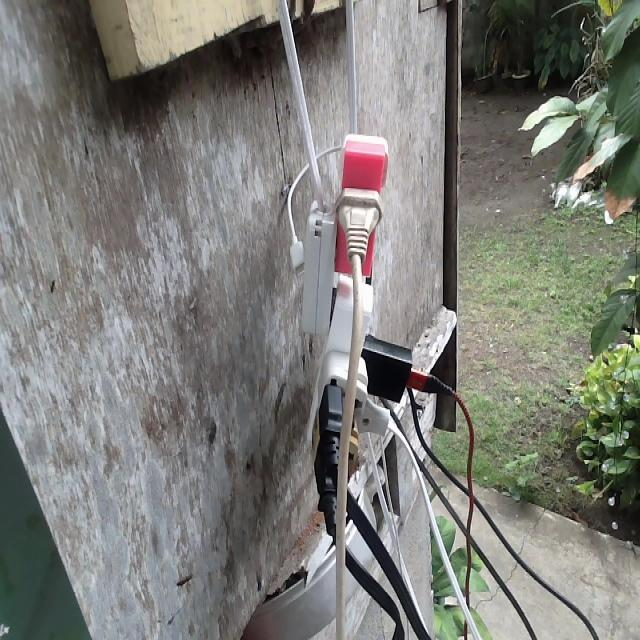-: (301, 132, 436, 472)
